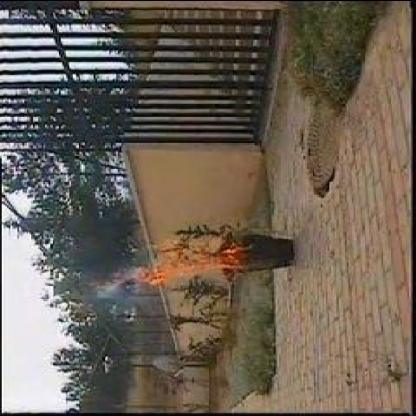-: (90, 262, 137, 300)
foggia-v2-map80-epoch100 - v1 4323: (212, 244, 242, 272)
